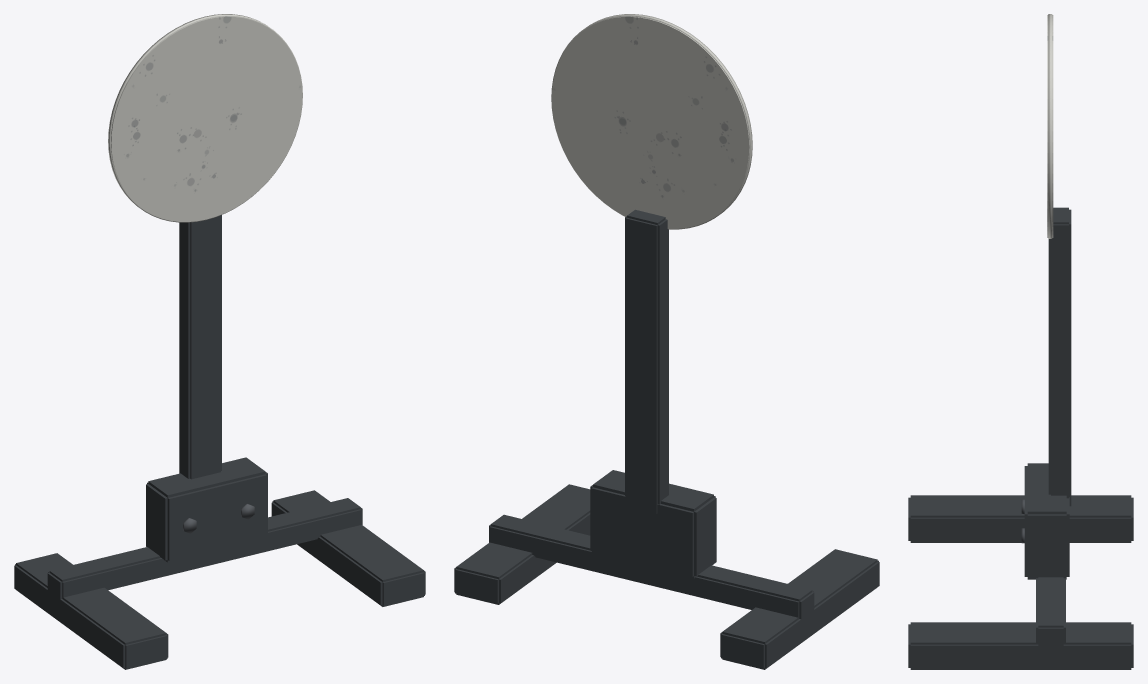
File: obj_steel_plate.glb
3 views of the same model, side by side, from view 1: azimuth 30°, elevation 25°; view 2: azimuth 150°, elevation 25°; view 3: azimuth 270°, elevation 25° (orthographic). The views are drawn at different scales.
Parts seen in each view (by area): view 1: steel_plate_body, plate; view 2: steel_plate_body, plate; view 3: steel_plate_body, plate.
Boxes of the visible parts, box(x1,y1,x2,y2) form: steel_plate_body: box(14, 215, 425, 669); plate: box(108, 14, 302, 222); steel_plate_body: box(454, 209, 879, 669); plate: box(551, 14, 752, 229); steel_plate_body: box(908, 207, 1133, 669); plate: box(1047, 14, 1053, 238).
Bounding box in the file's own units: 0.47 × 0.84 × 0.3.
Materials: 3 (2 with a texture image).
